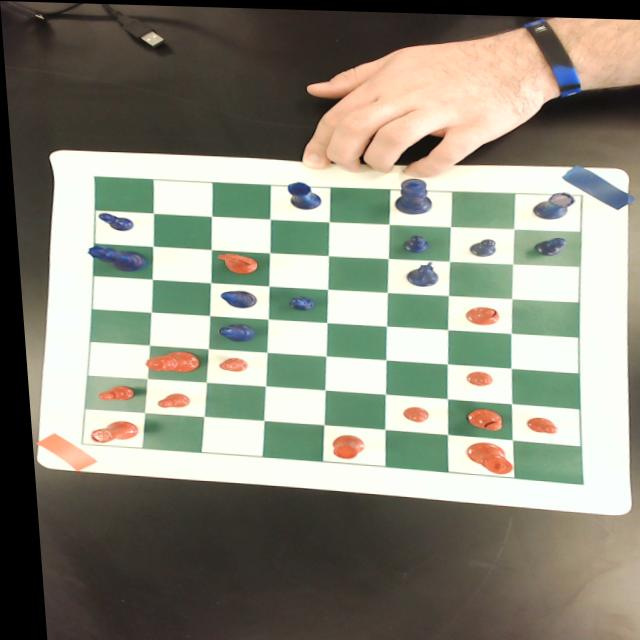B: (211, 321, 253, 340), (214, 288, 254, 306)
K: (390, 174, 430, 211)
N: (399, 257, 440, 285)
P: (93, 210, 131, 230), (531, 232, 564, 253), (463, 233, 494, 254), (398, 231, 427, 250), (283, 294, 312, 308)
Q: (82, 244, 144, 271)
R: (527, 187, 574, 216), (282, 179, 320, 208)
b: (459, 404, 497, 427), (460, 302, 495, 322)
k: (458, 439, 506, 471)
n: (211, 251, 256, 273)
p: (90, 383, 131, 400), (518, 412, 553, 431), (150, 391, 184, 407), (395, 403, 425, 420), (459, 367, 488, 384), (212, 355, 242, 370)
q: (138, 349, 195, 372)
r: (80, 418, 133, 444), (325, 432, 359, 457)
